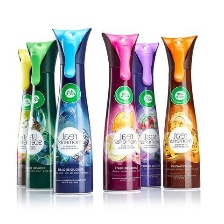aerosol_cans: (45, 23, 95, 197), (152, 32, 204, 192), (98, 27, 144, 194), (119, 37, 162, 190), (24, 36, 62, 192), (14, 44, 43, 189)
